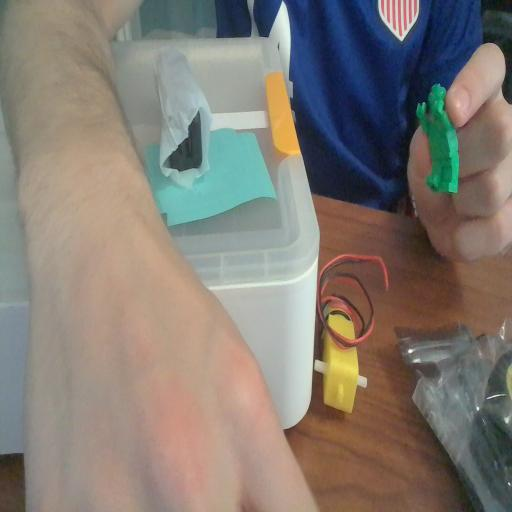green LEGO minifig: (414, 82, 463, 196)
